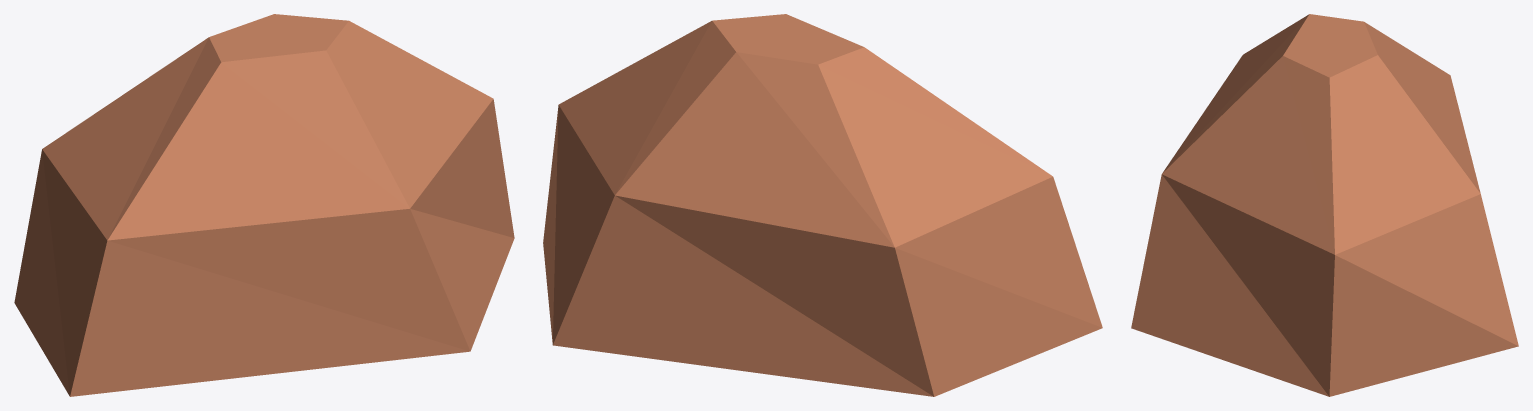
The model's file is desert-canyons-and-oases-wind-carved-rock-3f0fd366__21019.glb.
3 renders of one model, left to right at view 1: azimuth 30°, elevation 25°; view 2: azimuth 150°, elevation 25°; view 3: azimuth 270°, elevation 25°, orthographic. The views are drawn at different scales.
Parts seen in each view (by area): view 1: wind-carved-rock; view 2: wind-carved-rock; view 3: wind-carved-rock.
Boxes of the visible parts, x1=… form: wind-carved-rock: x1=14, y1=14, x2=514, y2=396; wind-carved-rock: x1=543, y1=14, x2=1102, y2=396; wind-carved-rock: x1=1131, y1=14, x2=1518, y2=396.
Bounding box in the file's own units: 1.81 × 0.8999 × 1.3.
